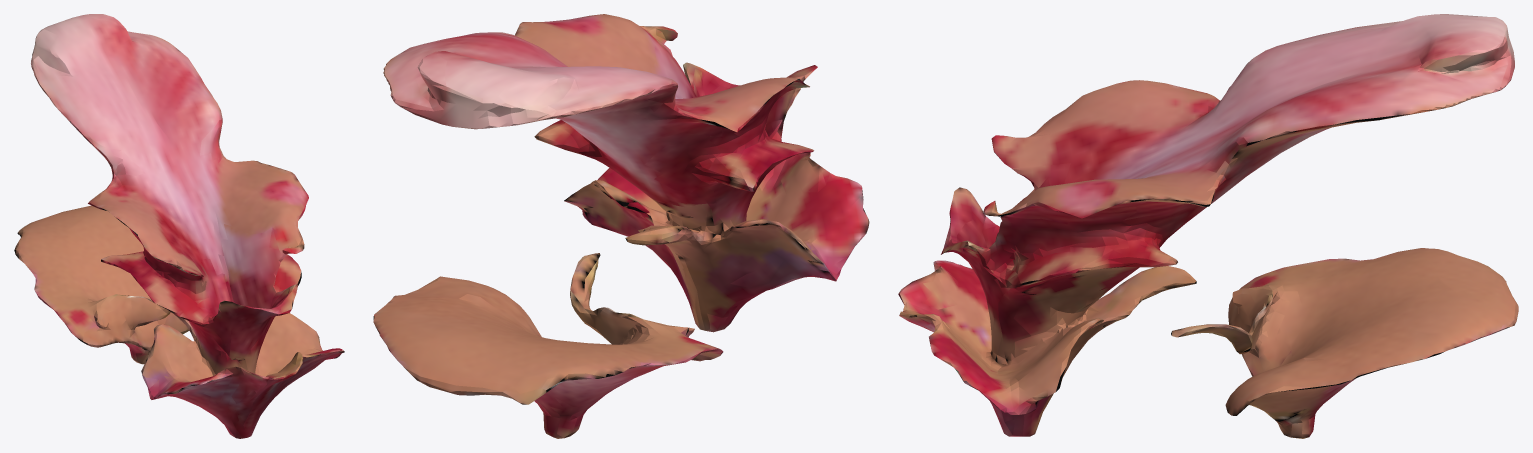
The model's file is Plant9.glb.
3 views of the same model, side by side, from view 1: azimuth 30°, elevation 25°; view 2: azimuth 150°, elevation 25°; view 3: azimuth 270°, elevation 25° (orthographic). The views are drawn at different scales.
Parts seen in each view (by area): view 1: model.007_LOD0; view 2: model.007_LOD0; view 3: model.007_LOD0.
Part boxes in pixels (x1,y1,x2,y2): model.007_LOD0: (14, 14, 344, 438); model.007_LOD0: (373, 14, 869, 438); model.007_LOD0: (898, 14, 1518, 438).
Size of what is drawn, in the model's own units: 0.2813 by 0.4198 by 0.5779.
Materials: 1 (1 with a texture image).
